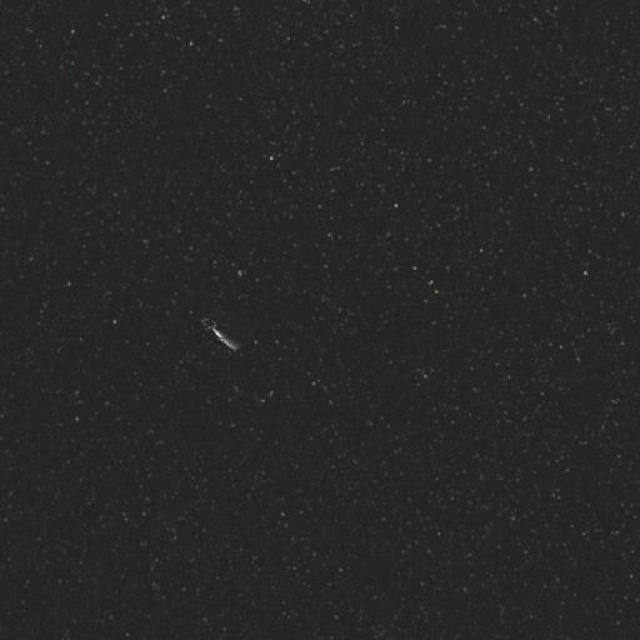debris: (183, 314, 260, 361)
